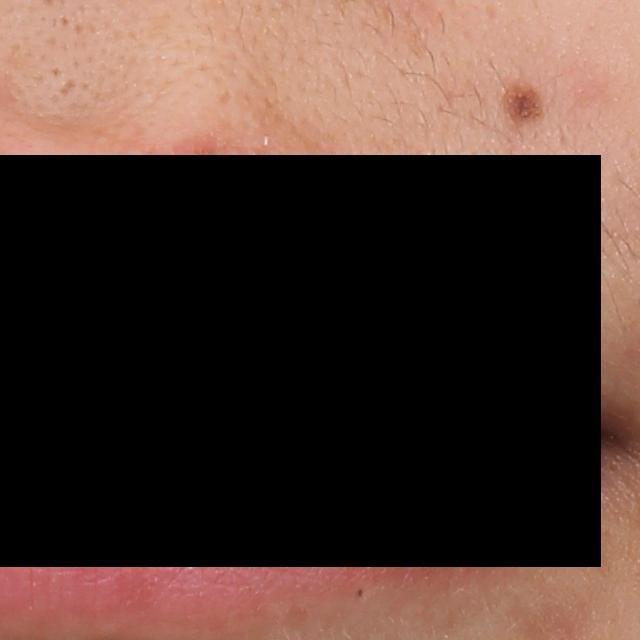nevus: (496, 77, 547, 127)
